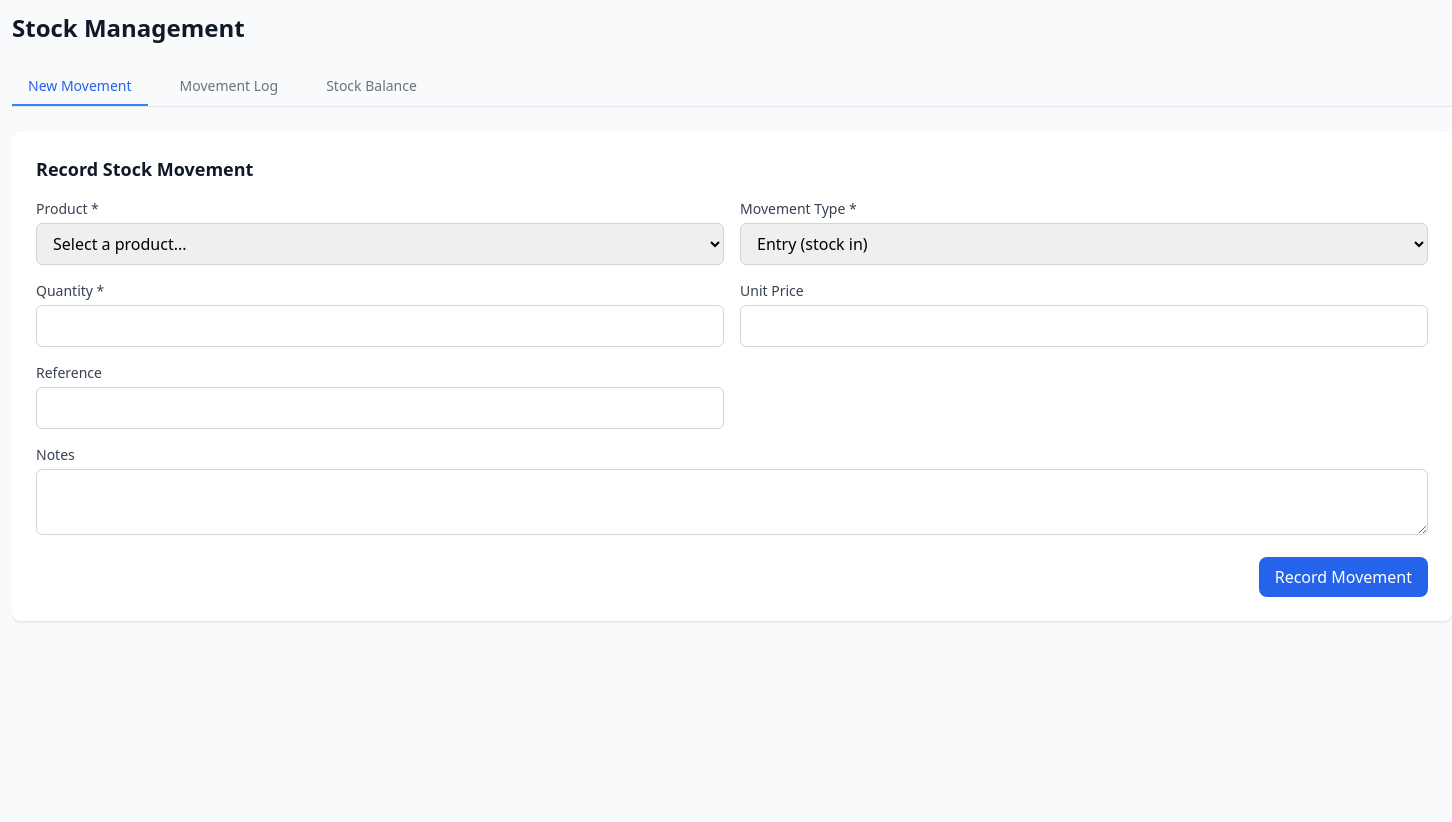
Test: StockPage › switches to stock balance tab and shows balance with low stock alerts
What coordinates should you click on to do the following:
click the button "Stock Balance"
I would click on:
 (372, 87)
Its box is [310,68,433,106].
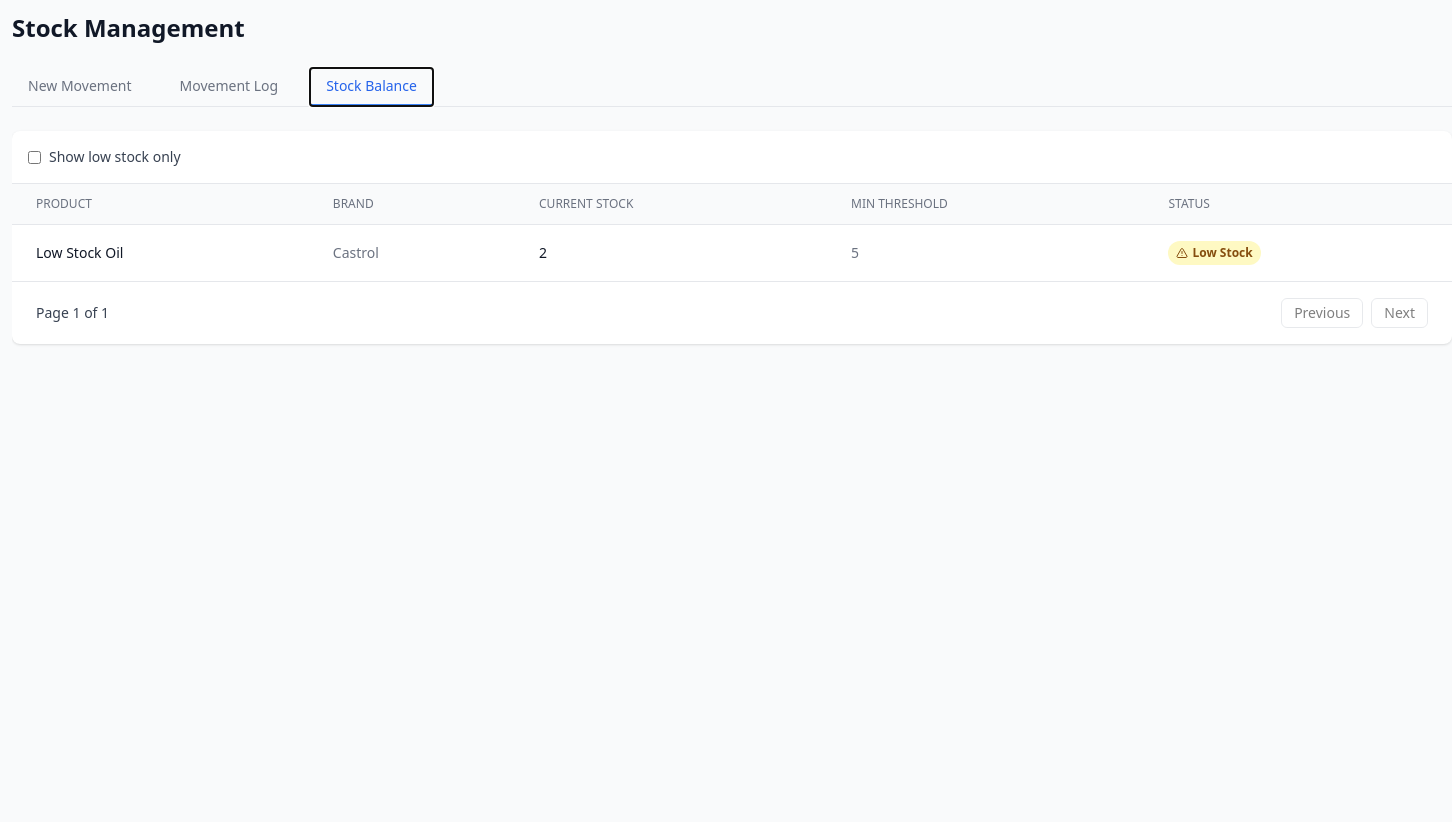
Now the text "Low Stock Oil" is shown, box [12,224,309,281]
Now the text "Low Stock" is shown, box [1192,245,1253,261]
